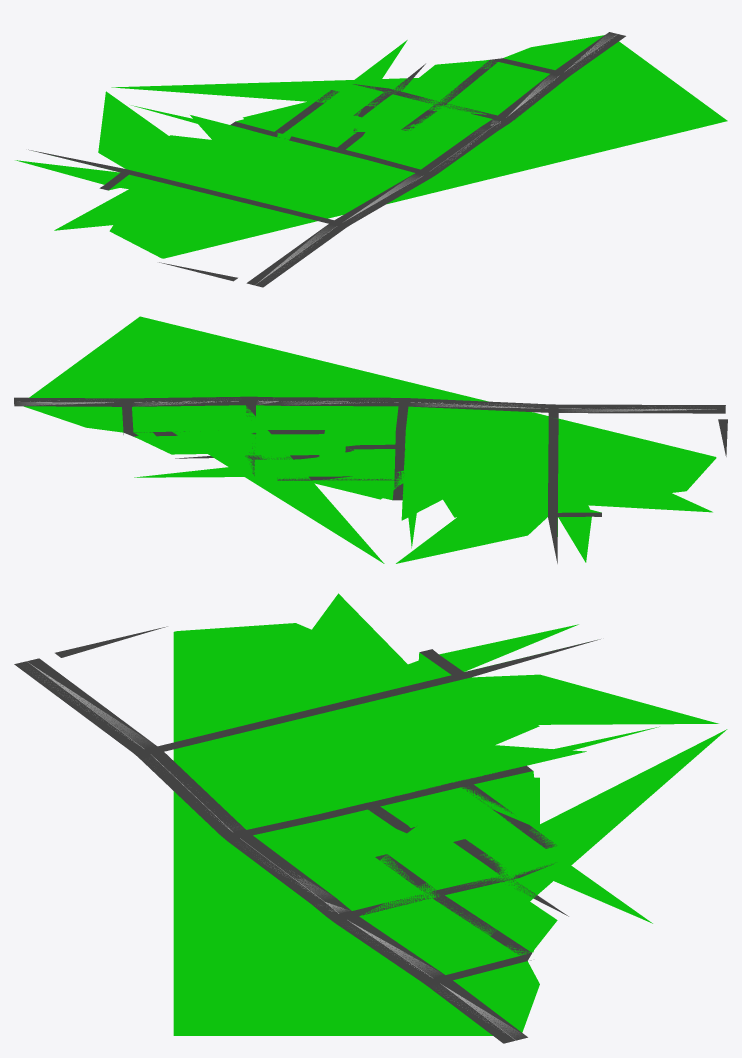
The picture shows the model from 3 angles, top to bottom: view 1: azimuth 30°, elevation 25°; view 2: azimuth 150°, elevation 25°; view 3: azimuth 270°, elevation 25°; orthographic projection. The views are drawn at different scales.
Size of the model in its own units: 262 by 0 by 175.
